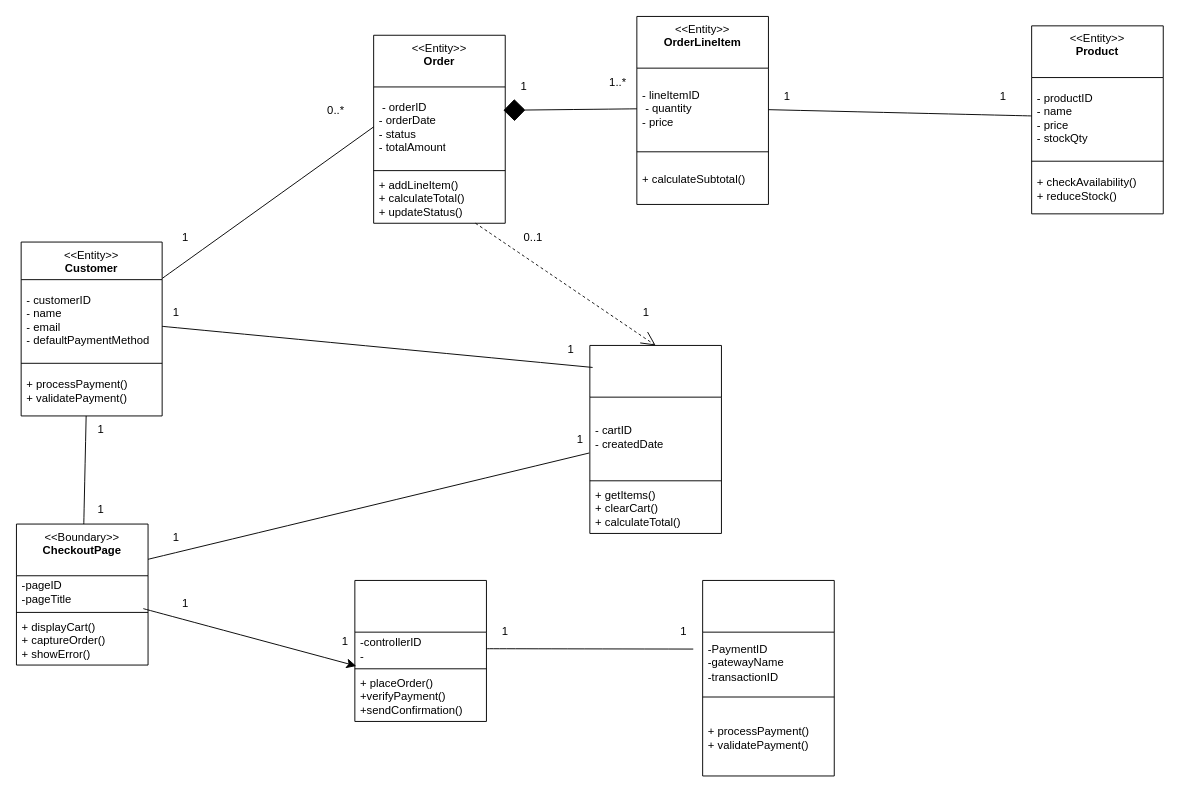
The diagram is 1180 pixels wide and 792 high, and some of its shapes have lost their labels. The box of each missing label's shape, as (x1, y1, x2, y2) in pixels:
<<Boundary>> PaymentGateway: (702, 580, 834, 776)
<<Control>> OrderController: (354, 580, 486, 721)
<<Entity>> ShoppingCart: (589, 345, 721, 533)
